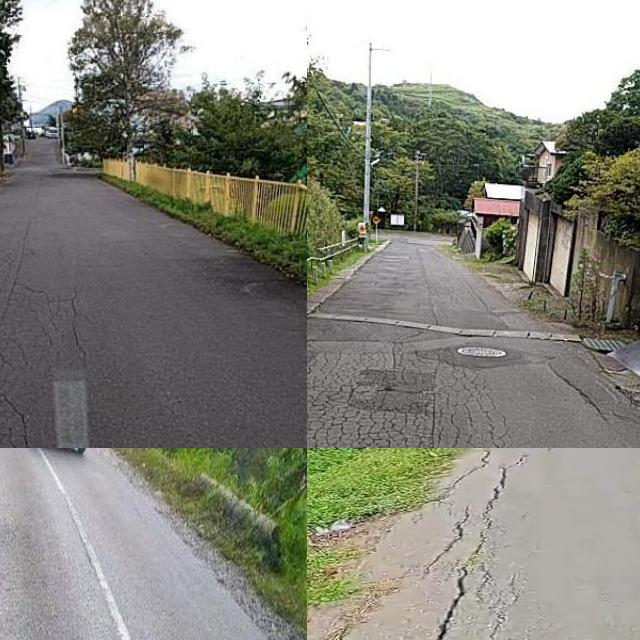Memanjang: (397, 452, 530, 640)
Pinggir: (307, 519, 422, 640)
Retak Buaya: (0, 223, 91, 448)
